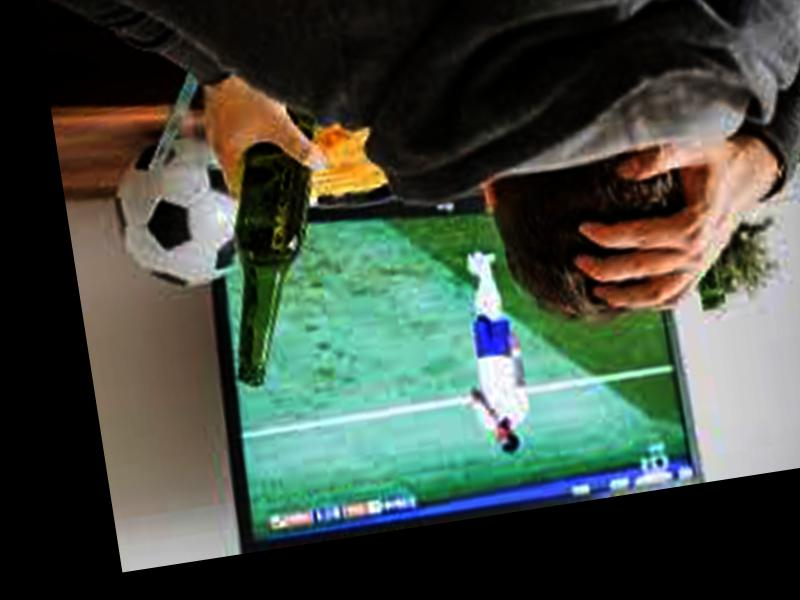Beer: (198, 99, 344, 387)
